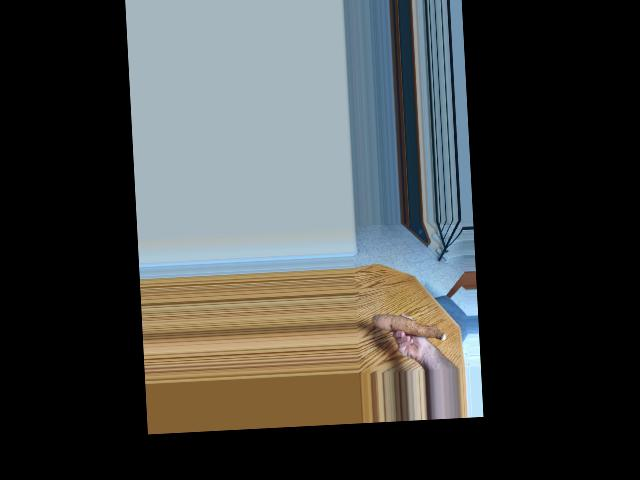sweet_potato: (374, 307, 446, 351)
